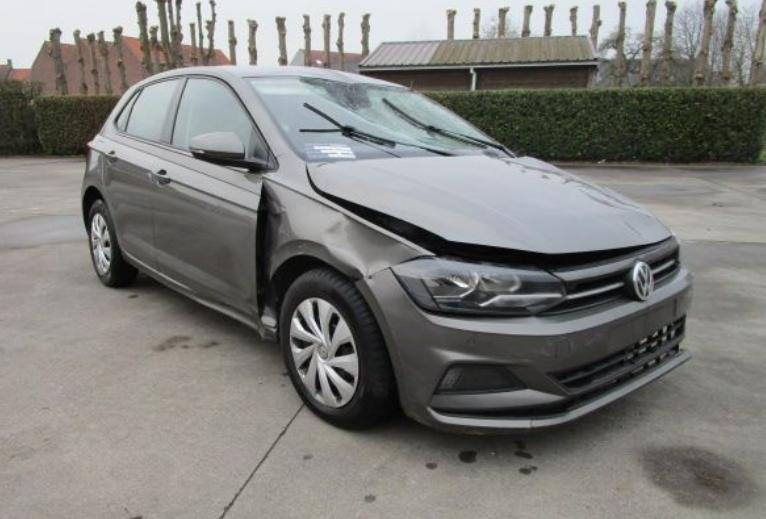Broken part: (303, 163, 669, 273), (254, 175, 439, 342)
Dent: (494, 154, 669, 240), (316, 204, 422, 281)
